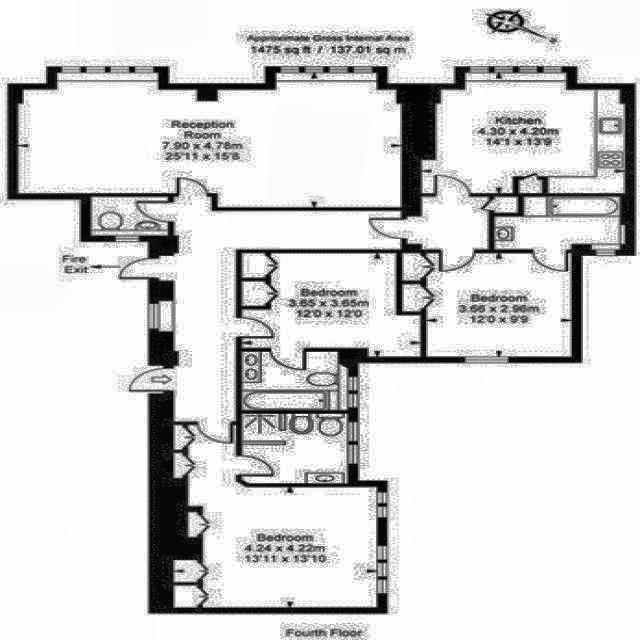room: (159, 196, 400, 423), (18, 72, 401, 207), (189, 423, 376, 607), (421, 72, 625, 193), (240, 253, 421, 357), (402, 253, 572, 357), (242, 414, 347, 484), (494, 198, 619, 248), (241, 352, 337, 409), (422, 197, 489, 248), (91, 198, 168, 235)
